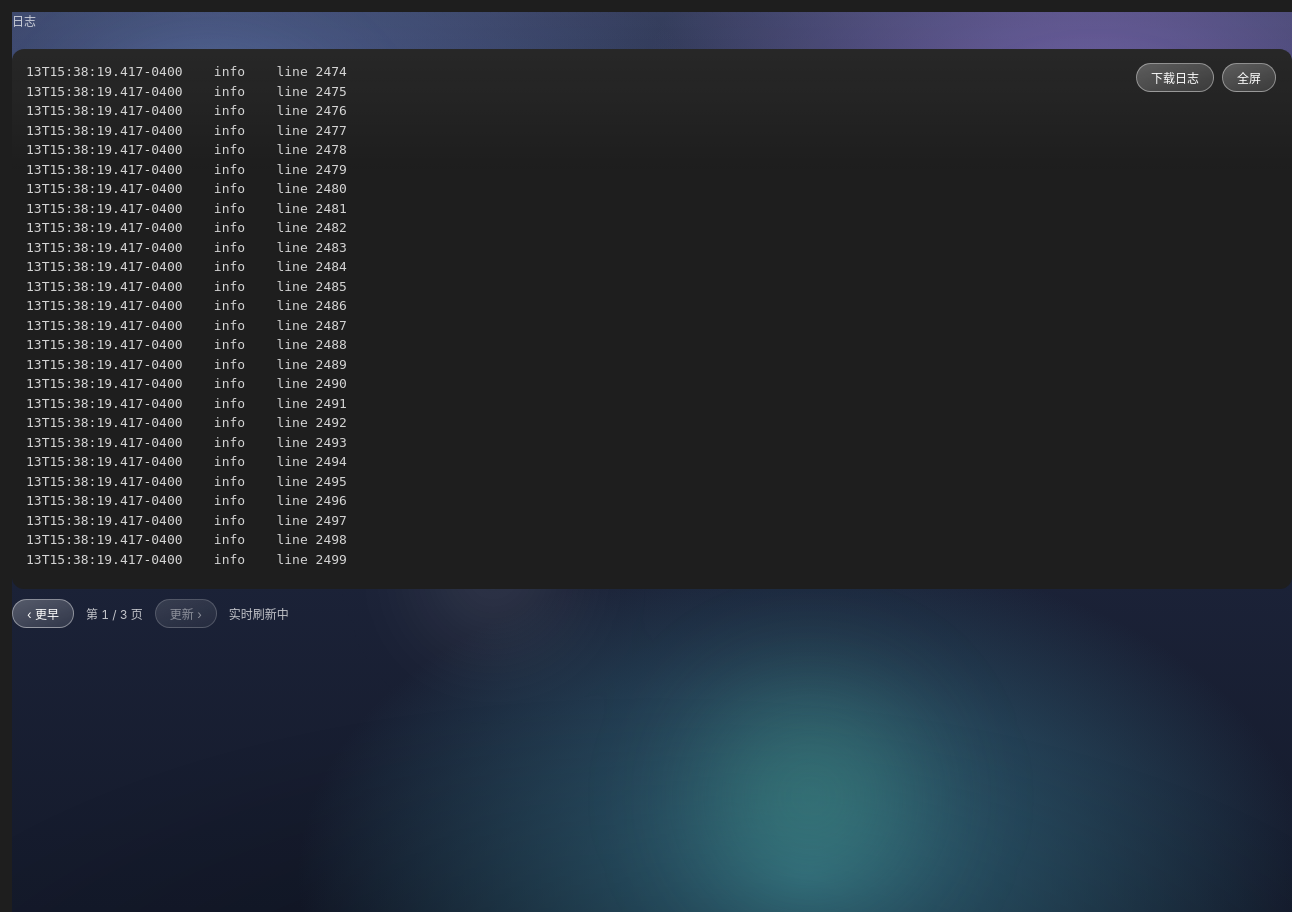
Test: TerminalPanel › leaving page 1 pauses the 5-second polling and says so
(page scrolled)
What coordinates should you click on to do the following:
click the button with test id "logs-older"
I would click on:
 (43, 614)
Its box is [12,599,74,628].
Wait 30000 ms
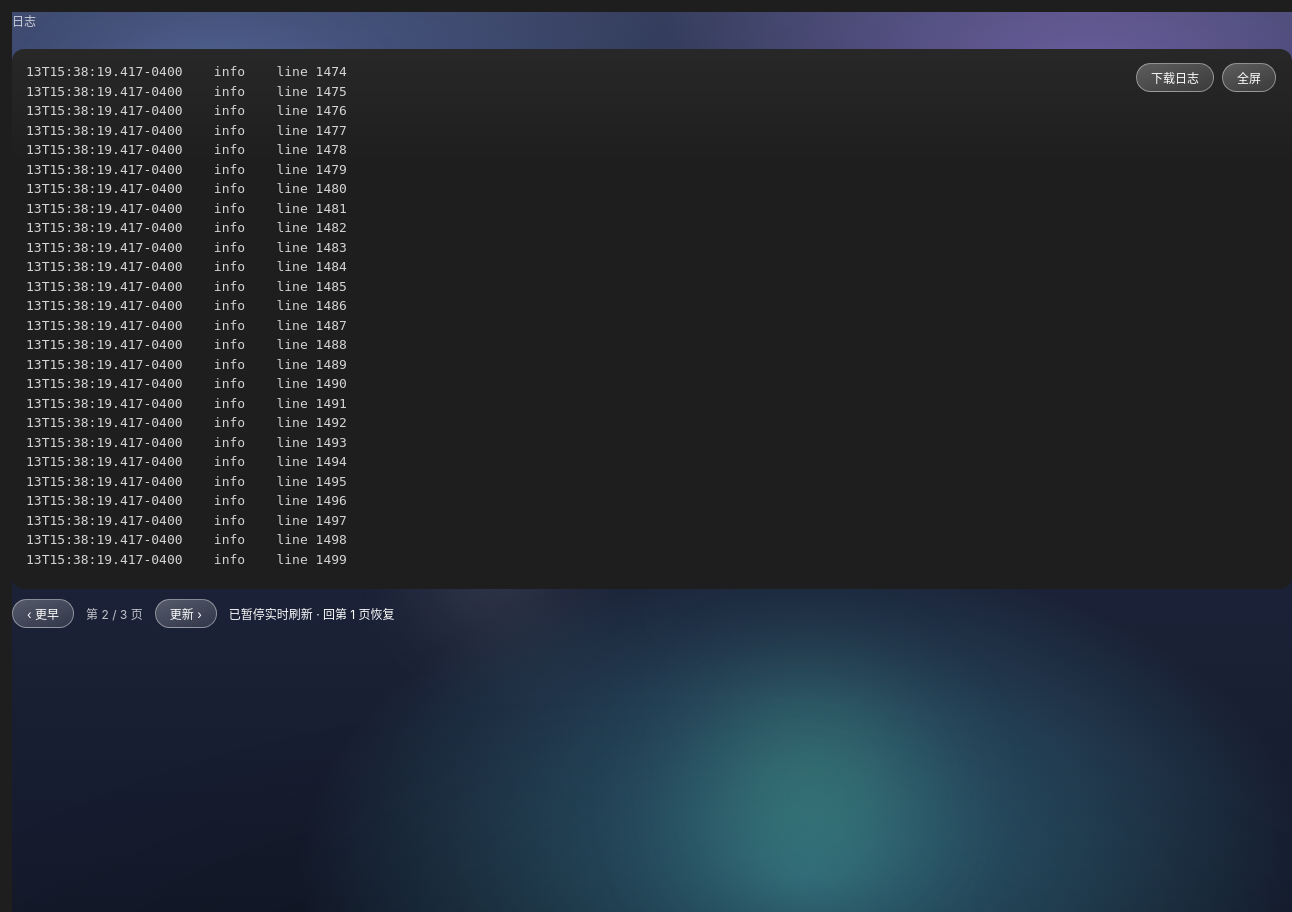
Result: the text "已暂停实时刷新 · 回第 1 页恢复" is shown at [229,605,395,622]
